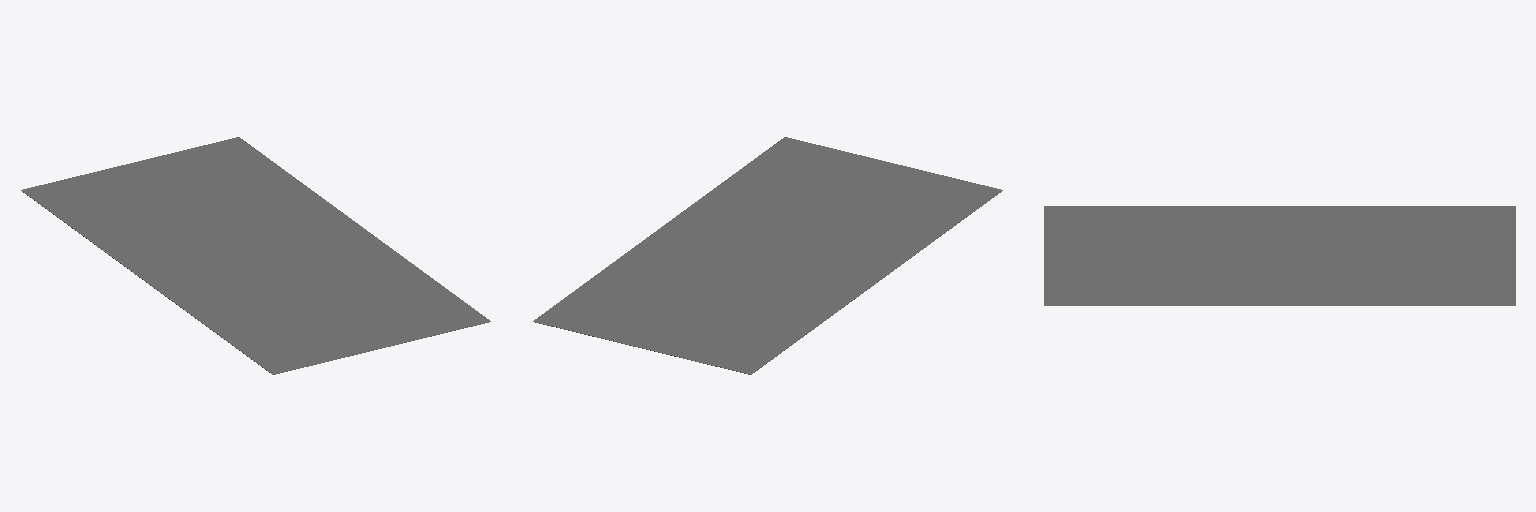
URDF robot description (table_ikea.urdf):
<?xml version="1.0" ?>
<robot name="table_ikea.urdf">
  <link name="table_ikea_link">
    <contact>
      <lateral_friction value="0.5"/>
      <inertia_scaling value="1.0"/>
    </contact>
    <inertial>
      <origin rpy="0 0 0" xyz="0 0 0"/>
       <mass value="50"/>
       <inertia ixx="1" ixy="0" ixz="0" iyy="1" iyz="0" izz="1"/>
    </inertial>
    <visual>
      <origin rpy="0 0 0" xyz="0 0 0"/>
      <geometry>
        <box size="0.8001 1.6002 0.001"/>
      </geometry>
       <material name="white">
        <color rgba="0.5 0.5 0.5 1"/>
      </material>
    </visual>
    <collision>
      <origin rpy="0 0 0" xyz="0 0 0"/>
      <geometry>
        <box size="0.8001 1.6002 0.001"/>
      </geometry>
    </collision>
  </link>
  <joint name="table_ikea_joint" type="fixed">
    <parent link="world"/>
    <child link="table_ikea_link"/>
    <origin rpy="0 0 0" xyz="0 0 0"/>
  </joint>
  <link name="world">
    <inertial>
      <origin rpy="0 0 0" xyz="0 0 0"/>
      <mass value="0.0"/>
      <inertia ixx="0.001" ixy="0.0" ixz="0.0" iyy="0.001" iyz="0.0" izz="0.001"/>
    </inertial>
  </link>
</robot>

--- Facts derived from the render (not from the file) ---
The picture shows the robot from 3 angles, left to right: view 1: azimuth 30°, elevation 25°; view 2: azimuth 150°, elevation 25°; view 3: azimuth 270°, elevation 25°; orthographic projection.
Model table_ikea.urdf with 2 links and 1 joints (1 fixed), rooted at world, posed every joint at zero.
Links seen in each view (by area): view 1: table_ikea_link; view 2: table_ikea_link; view 3: table_ikea_link.
Boxes of the visible links, box(x1,y1,x2,y2) form: table_ikea_link: box(21, 137, 490, 374); table_ikea_link: box(533, 137, 1002, 374); table_ikea_link: box(1044, 206, 1515, 305).
Size in the robot's own frame: 0.8001 by 1.6 by 0.001 metres.
Geometry: primitives only (box / cylinder / sphere), no mesh files.
